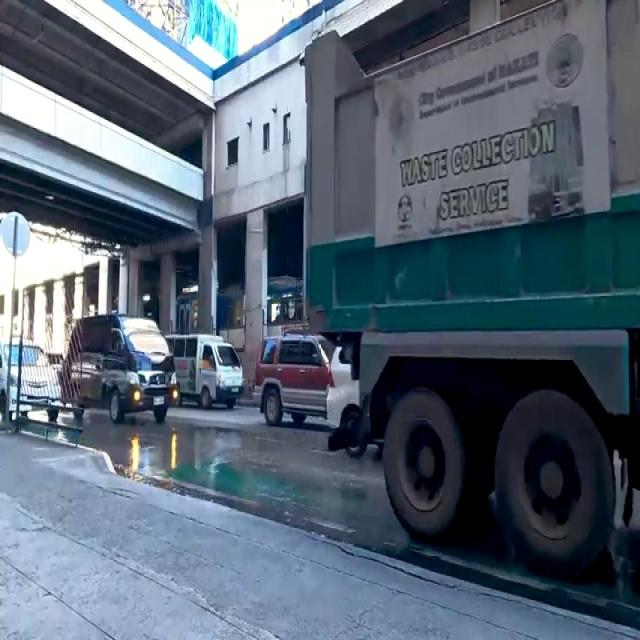car: (67, 317, 173, 425), (164, 339, 247, 417), (261, 342, 328, 419), (0, 343, 67, 413)
truck: (315, 42, 640, 556)
